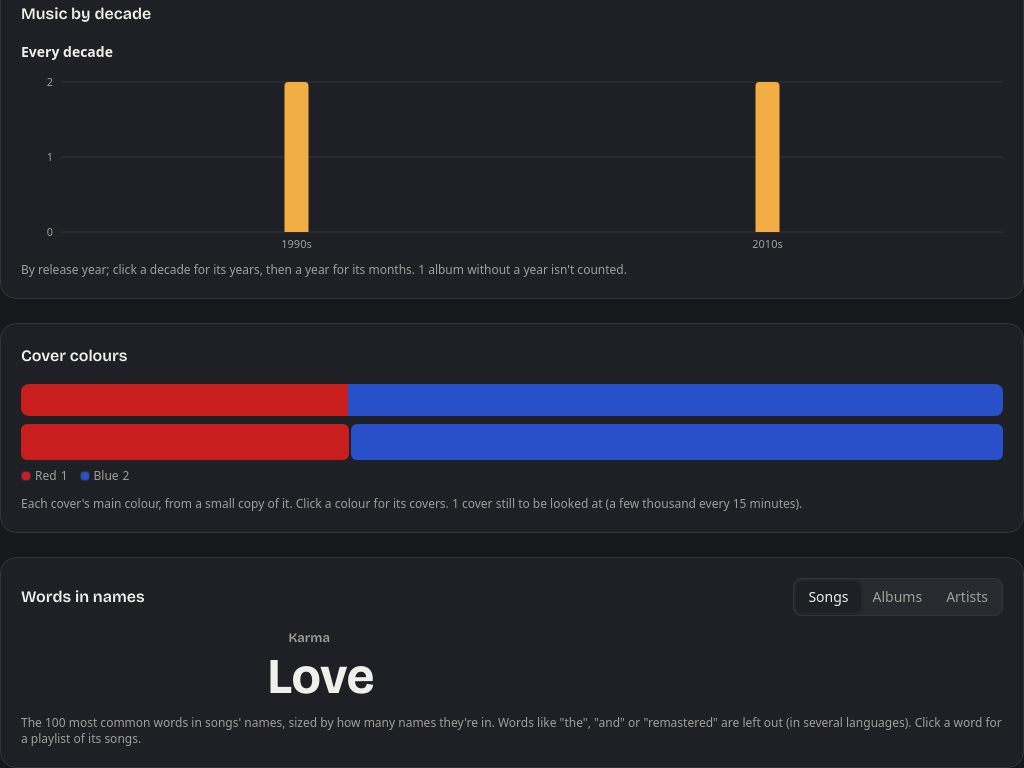
Test case: Library stats › makes a playlist of the songs with a word in the title, from the word cloud
Later steps or results of the test are not shown.
(page scrolled)
Click the button named "Love: 40": (321, 677) x1=268 y1=652 x2=374 y2=702
(page scrolled)
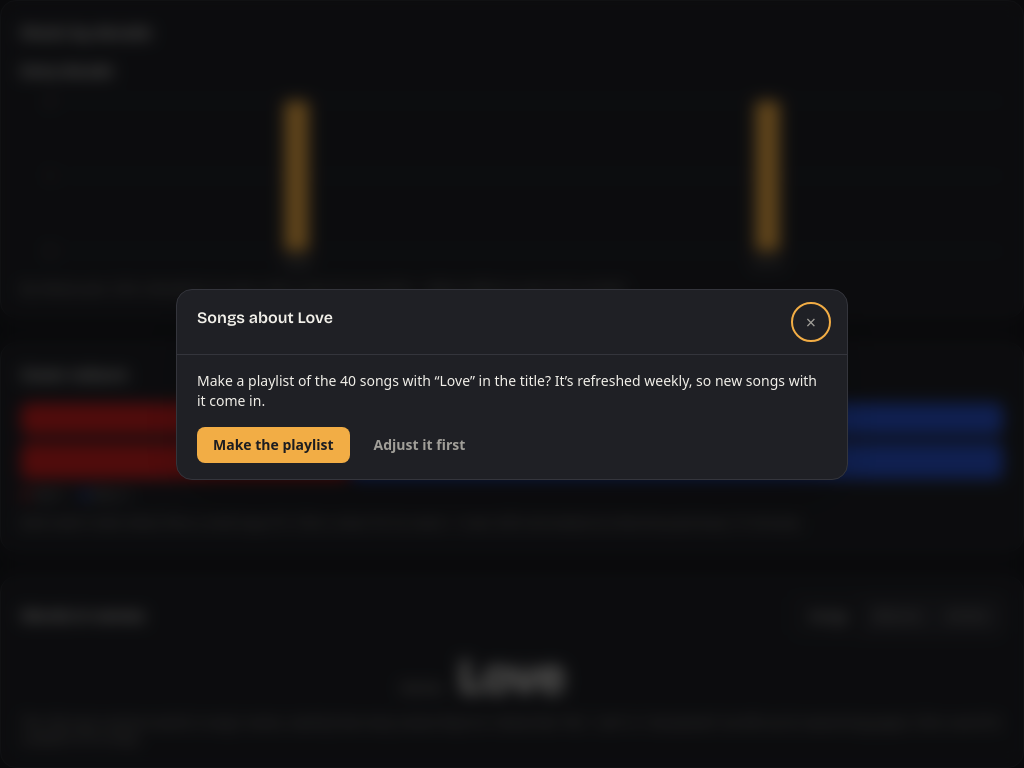
Result: the text "the 40 songs with “Love” in the title" is shown at x1=197 y1=370 x2=827 y2=410
